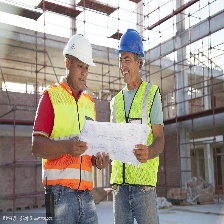helmet: (60, 31, 101, 73), (115, 27, 158, 61)
person: (31, 27, 107, 224), (111, 25, 168, 224)
vest: (37, 83, 108, 194), (104, 83, 165, 188)
